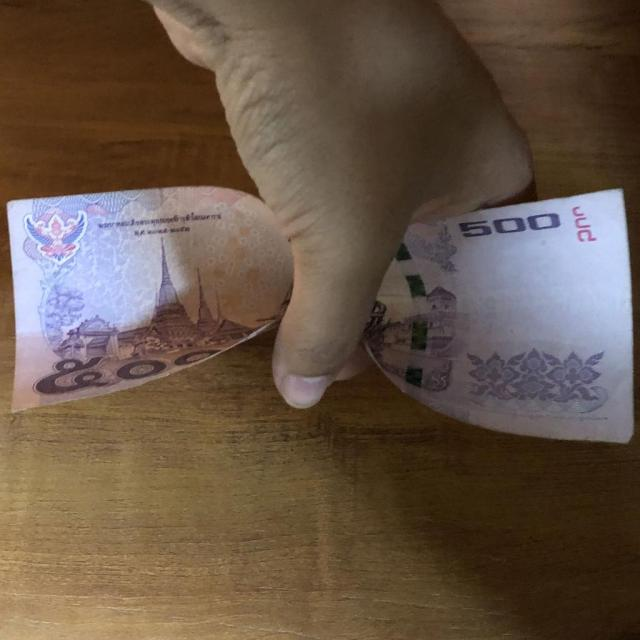THAI500: (363, 190, 634, 443), (8, 187, 292, 410)
